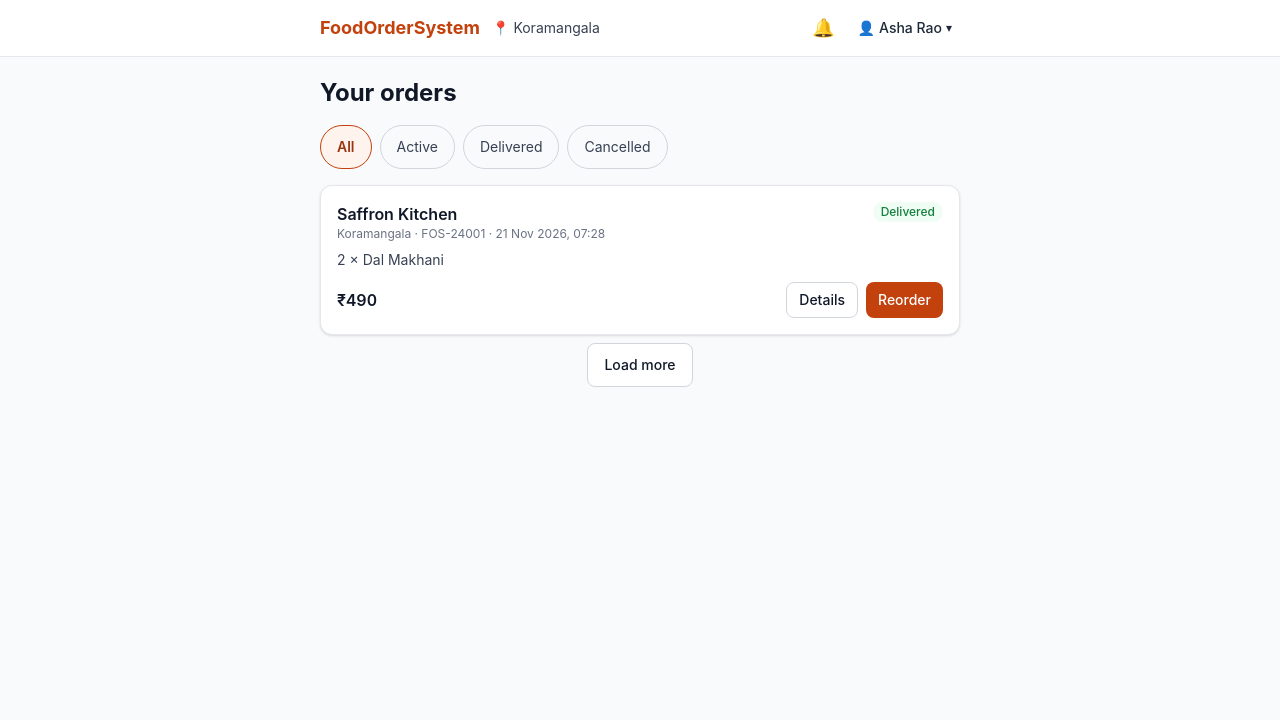
Test: customer account area › pages through order history and filters by status
The image size is (1280, 720).
expect the link "Saffron Kitchen" is shown: met, box [337,204,457,224]
Click the button "Load more". click: (640, 365)
box: [587,343,692,387]
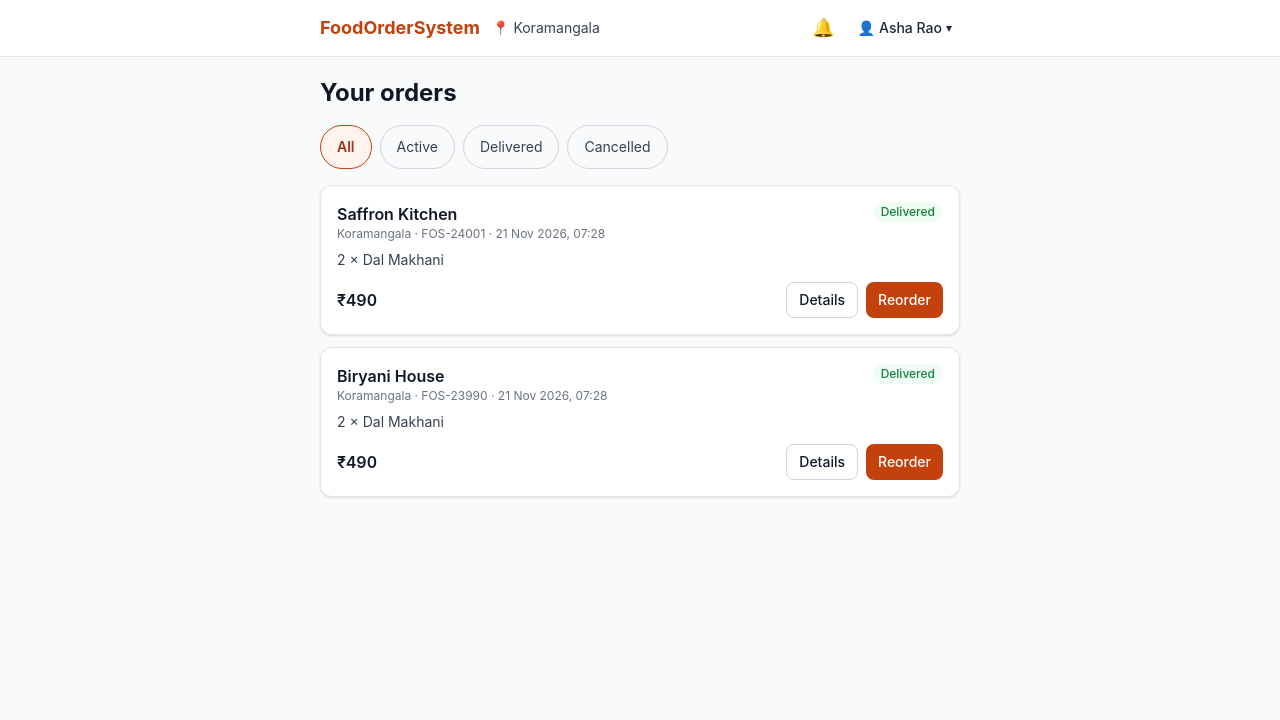
expect the link "Biryani House" is shown: met, box [337,366,444,386]
expect the button "Load more" is gone: met
Click the tab "Cancelled". click: (618, 147)
box: [568,125,668,169]
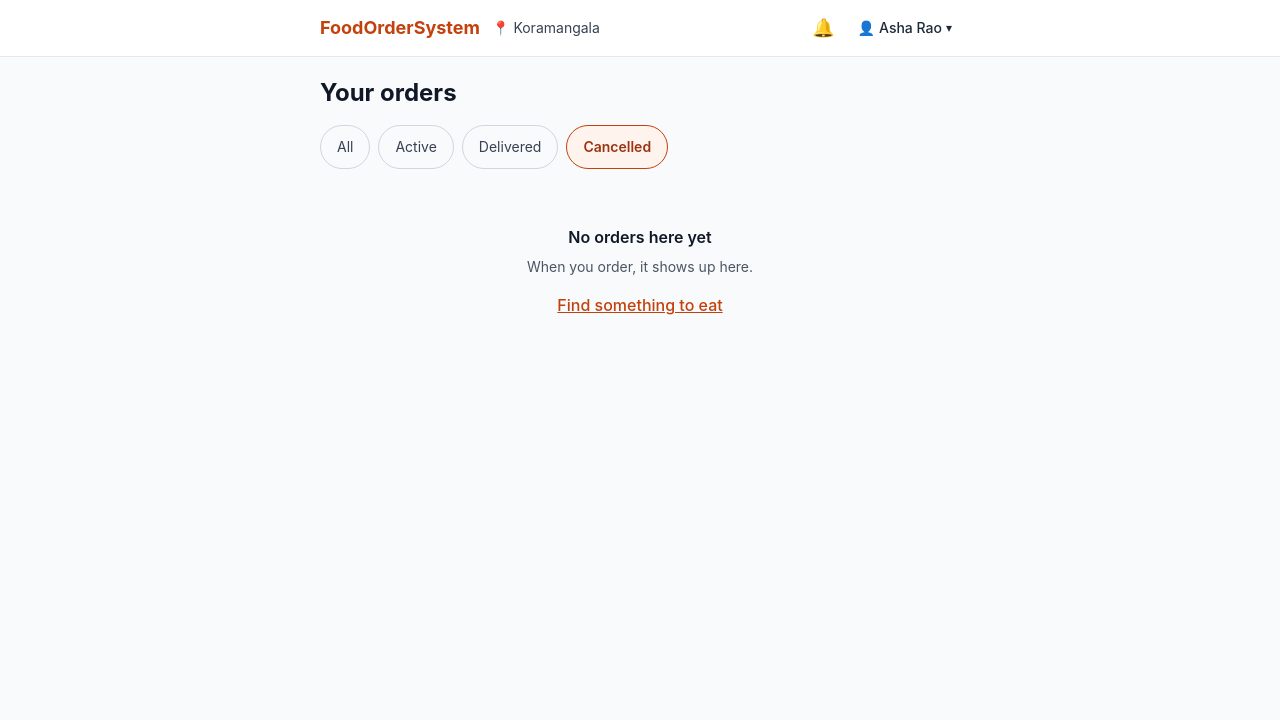
expect the text "No orders here yet" is shown: met, box [568,225,712,249]
